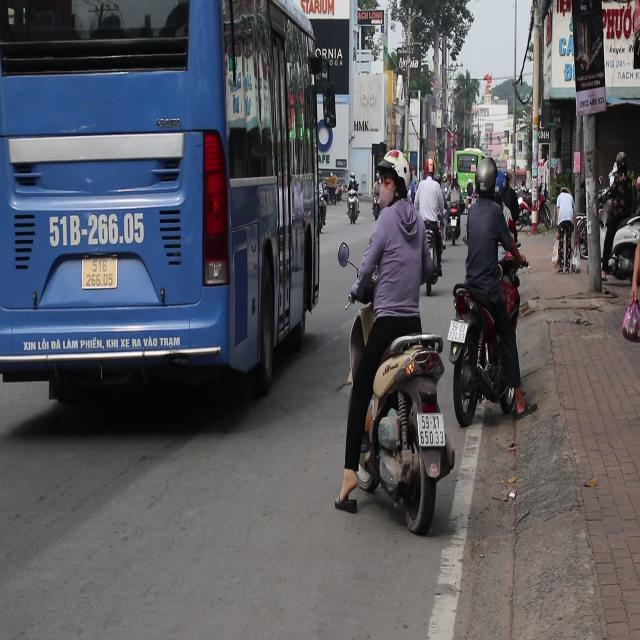bus: (0, 0, 334, 411), (454, 148, 487, 195)
motorbike: (352, 320, 458, 538), (458, 293, 552, 445), (602, 160, 639, 280), (422, 228, 442, 288), (345, 185, 363, 221), (446, 213, 461, 244), (314, 185, 324, 223), (371, 198, 385, 222)
